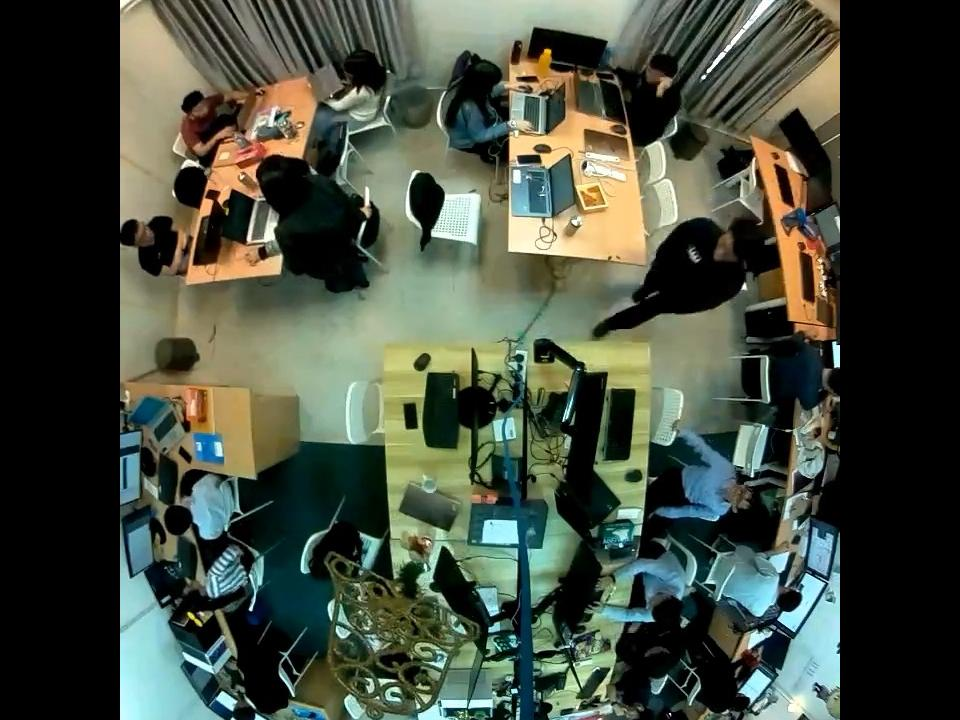name-tag: (685, 244, 708, 264)
